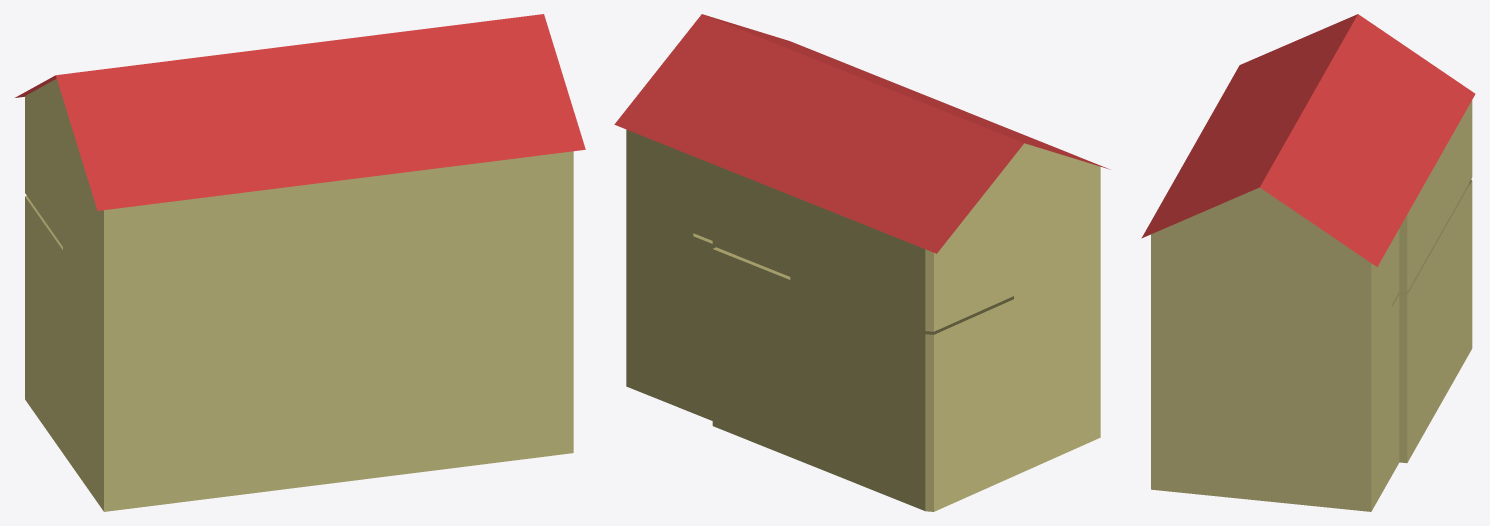
The picture shows the model from 3 angles, left to right: view 1: azimuth 30°, elevation 25°; view 2: azimuth 150°, elevation 25°; view 3: azimuth 270°, elevation 25°; orthographic projection. The views are drawn at different scales.
Bounding box in the file's own units: 14.46 × 10.35 × 10.83.
